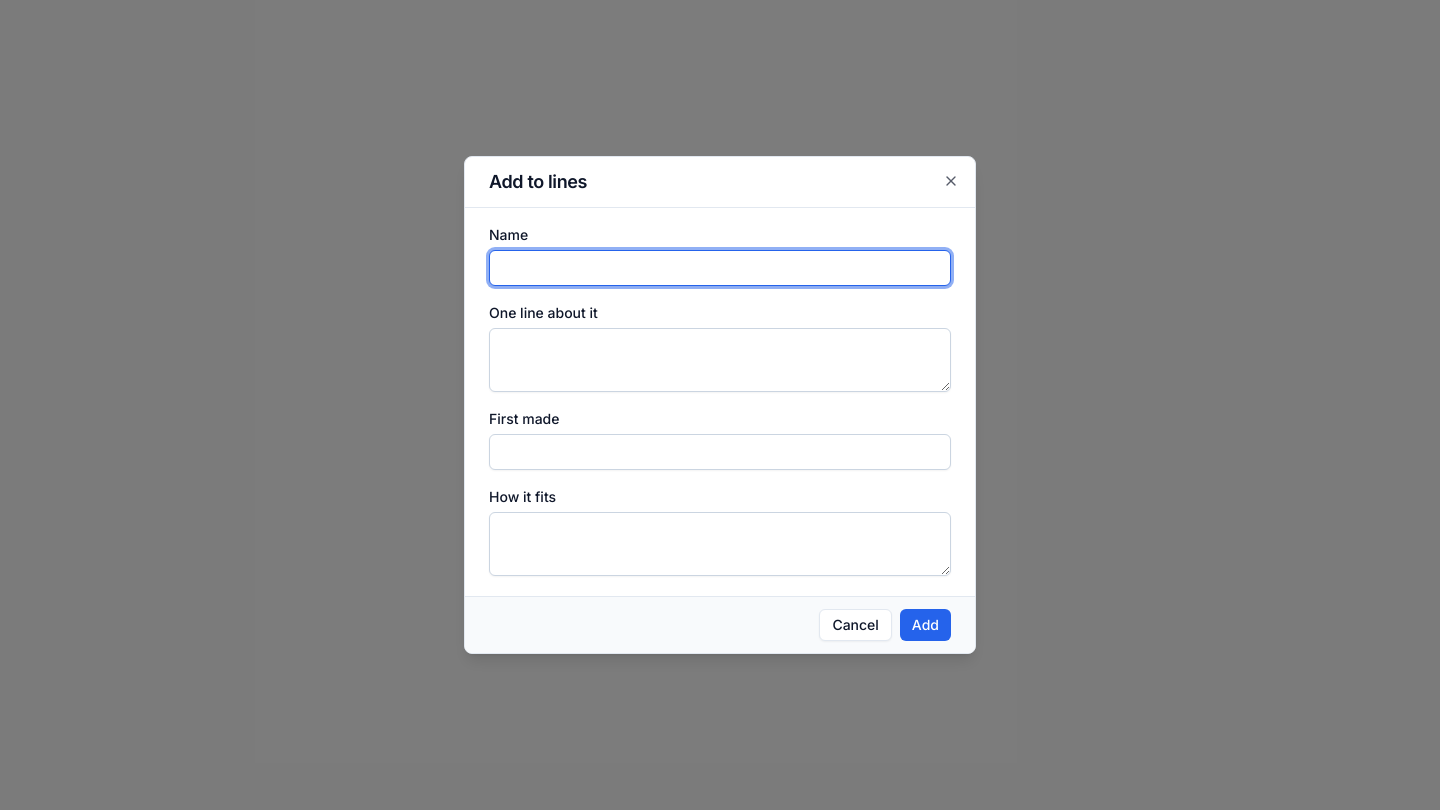
Test: saving from the add dialog › asks nothing of the shop while a required field is empty
Click the button "Add": click(925, 625) x1=900 y1=609 x2=951 y2=641
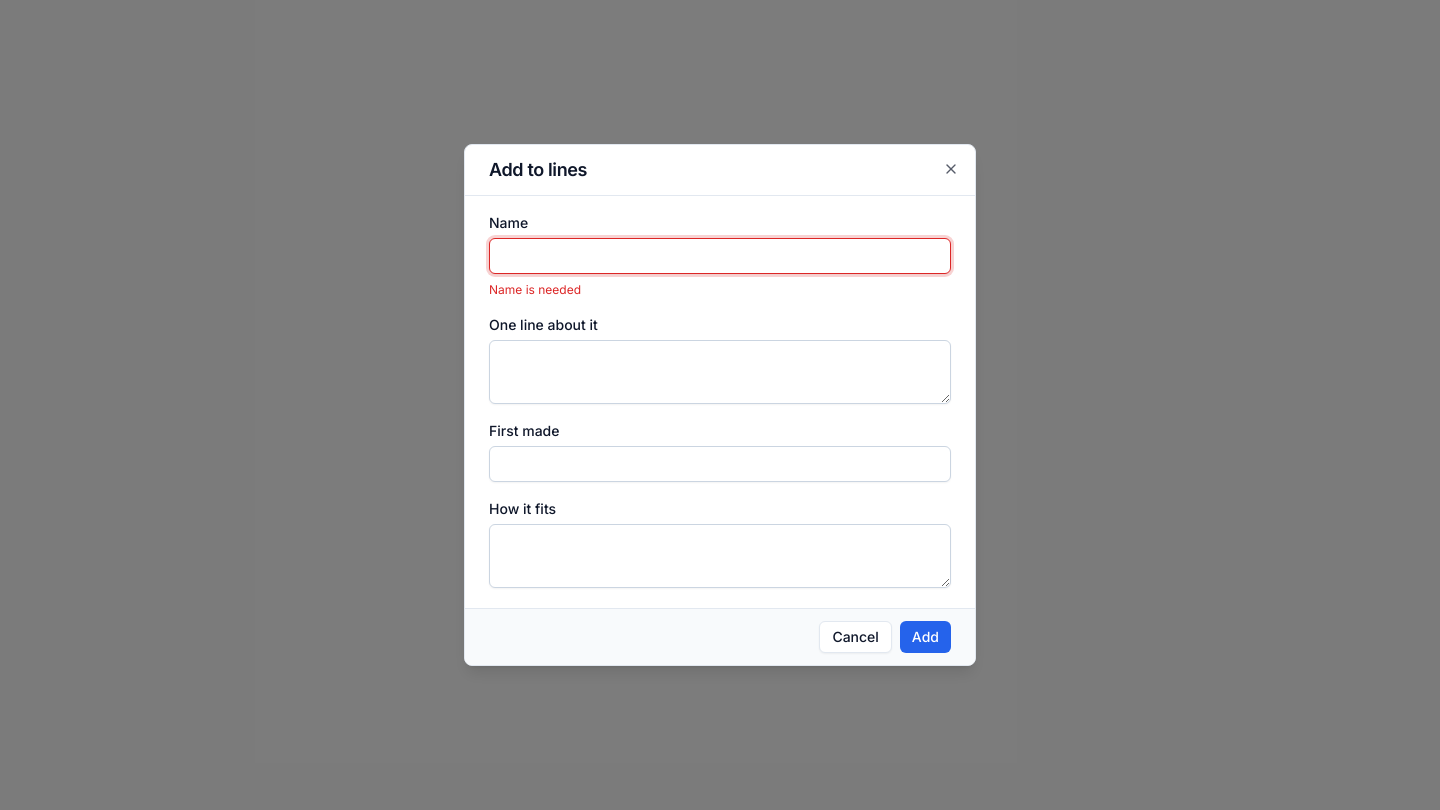
Expected: the text "Name is needed" is shown, x1=489 y1=282 x2=581 y2=297
